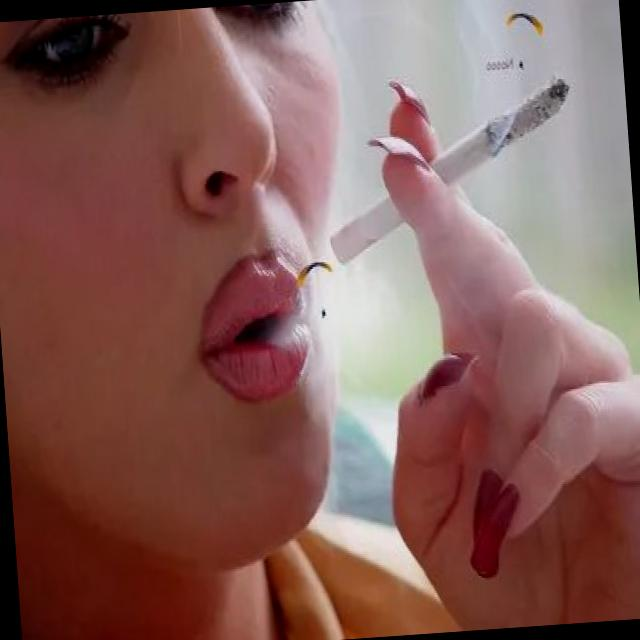cigarette: (316, 72, 586, 266)
